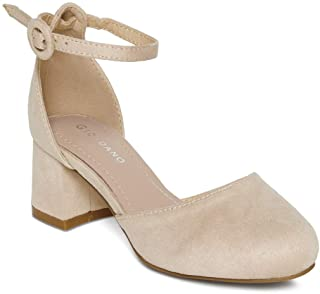shoes: (3, 1, 319, 287)
